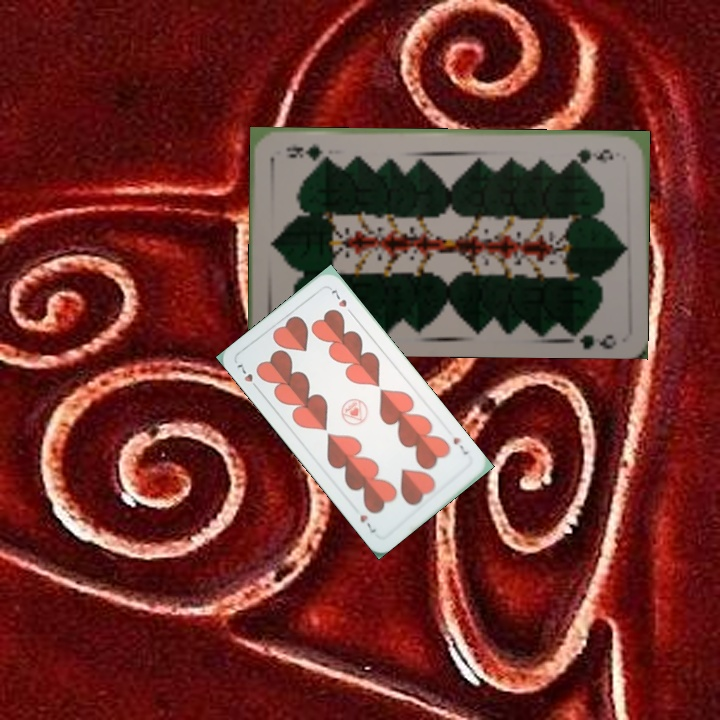G9: (566, 145, 615, 164)
H7: (232, 360, 262, 393), (449, 433, 471, 458)
